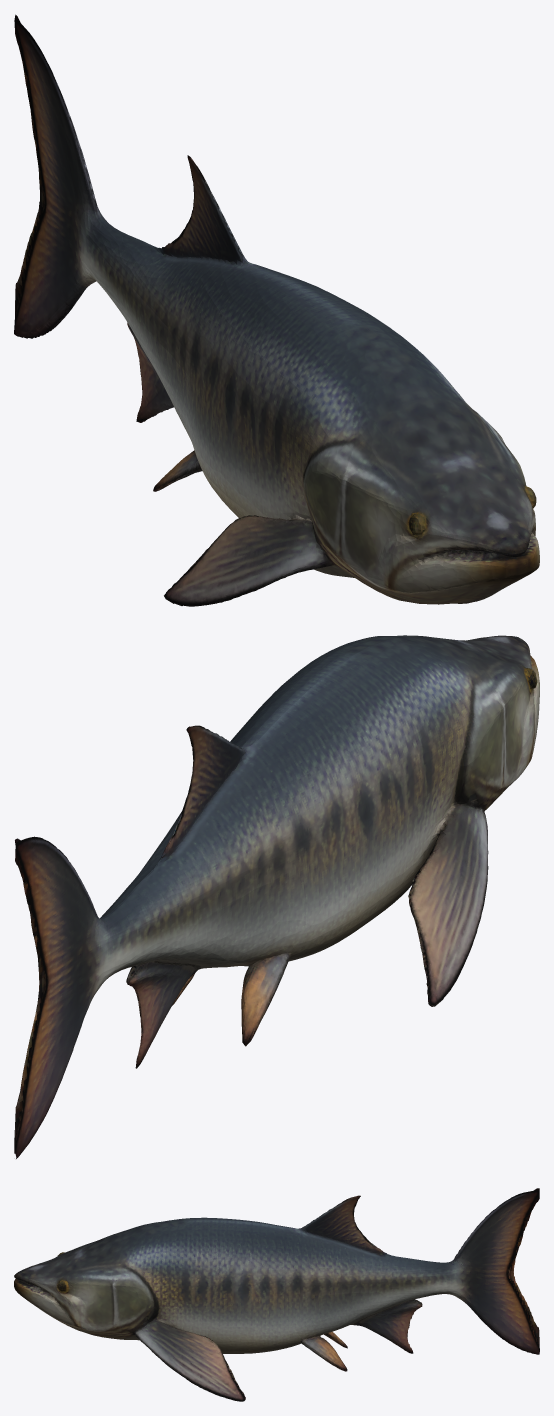
3 views of the same model, one above another, from view 1: azimuth 30°, elevation 25°; view 2: azimuth 150°, elevation 25°; view 3: azimuth 270°, elevation 25° (orthographic). The views are drawn at different scales.
Parts seen in each view (by area): view 1: world; view 2: world; view 3: world.
Part boxes in pixels (x1,y1,x2,y2): world: [14, 14, 539, 606]; world: [14, 635, 539, 1158]; world: [14, 1188, 539, 1401].
Bounding box in the file's own units: 1.49 × 1.81 × 4.8.
Materials: 2 (1 with a texture image).
